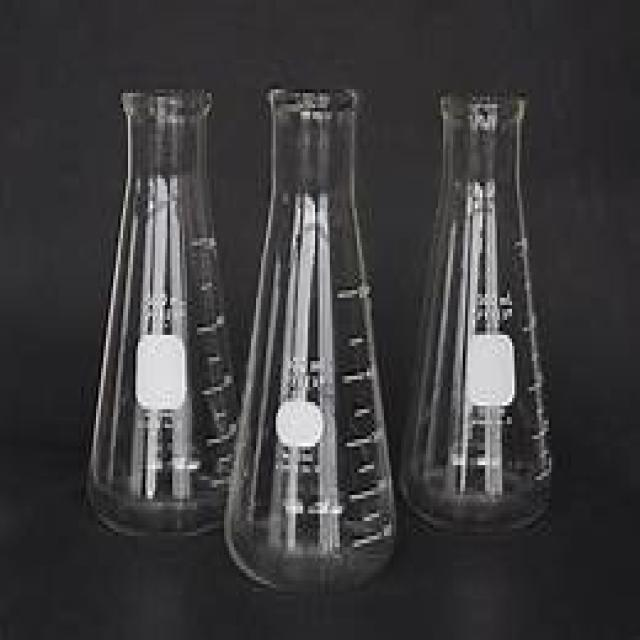Titrarion: (223, 77, 399, 591), (408, 80, 571, 561), (73, 89, 228, 548)
